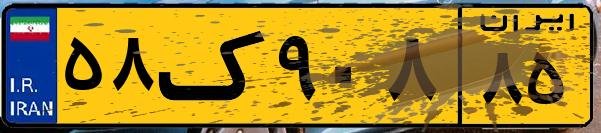0: (330, 28, 385, 110)
5: (57, 26, 110, 100), (525, 38, 570, 115)
8: (385, 28, 445, 110), (475, 38, 525, 113), (110, 28, 158, 98)
9: (270, 28, 330, 110)
ک: (158, 12, 270, 120)
